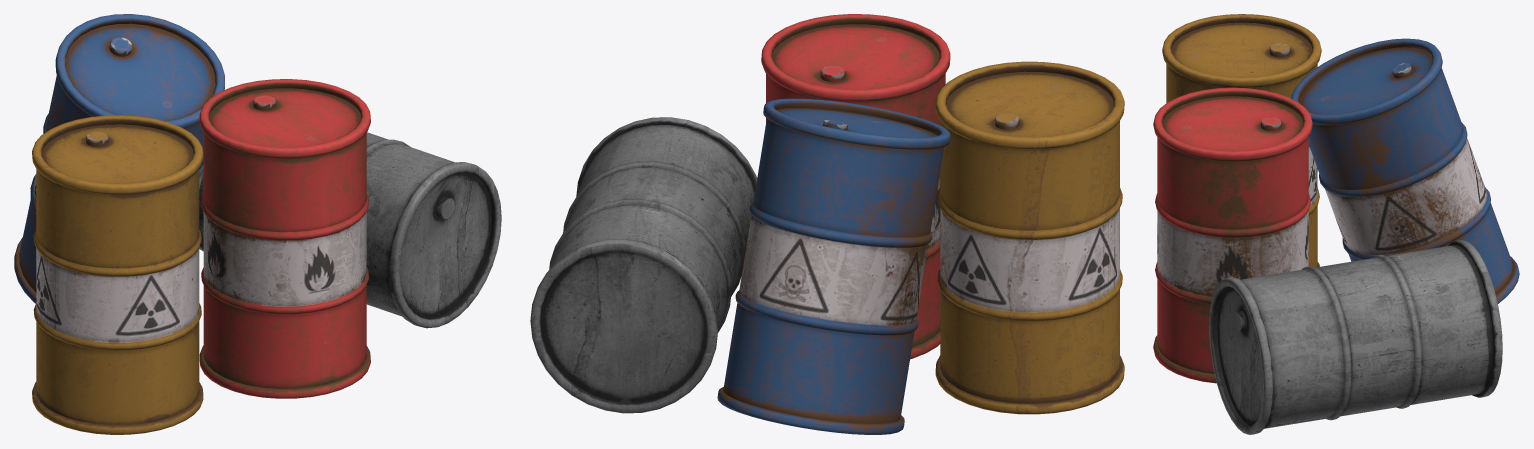
The model's file is barrels.glb.
The picture shows the model from 3 angles, left to right: view 1: azimuth 30°, elevation 25°; view 2: azimuth 150°, elevation 25°; view 3: azimuth 270°, elevation 25°; orthographic projection. The views are drawn at different scales.
Visible parts, largest first — view 1: Cylinder, Cylinder.002, Cylinder.003, Cylinder.001; view 2: Cylinder, Cylinder.001, Cylinder.003, Cylinder.002; view 3: Cylinder.003, Cylinder.002, Cylinder.001, Cylinder.
Boxes of the visible parts, x1,y1,x2,y2 form: Cylinder: (32, 115, 203, 434); Cylinder.002: (199, 79, 370, 398); Cylinder.003: (199, 132, 501, 328); Cylinder.001: (14, 14, 224, 303); Cylinder: (935, 61, 1124, 414); Cylinder.001: (717, 98, 950, 434); Cylinder.003: (530, 117, 757, 413); Cylinder.002: (761, 14, 950, 359); Cylinder.003: (1209, 240, 1502, 434); Cylinder.002: (1153, 87, 1312, 383); Cylinder.001: (1291, 38, 1519, 303); Cylinder: (1162, 14, 1321, 267).
Bounding box in the file's own units: 7.52 × 4.36 × 5.46.
1 material, 1 textured.
